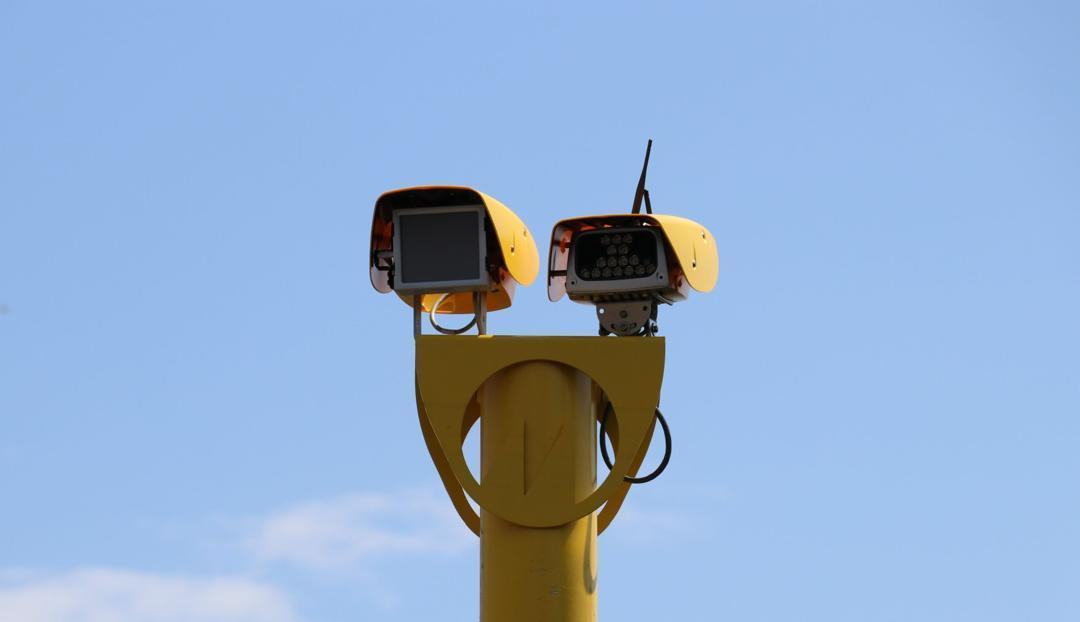Speed-Camera: (358, 123, 728, 359)
